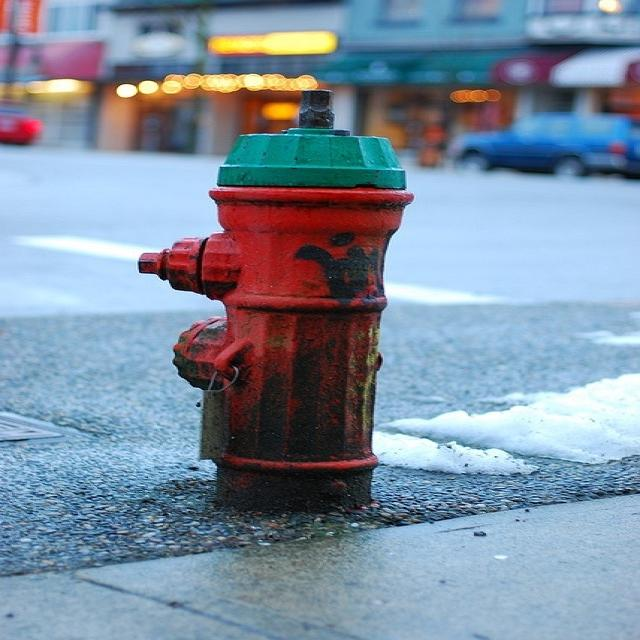fire_hydrant: (105, 68, 438, 533)
